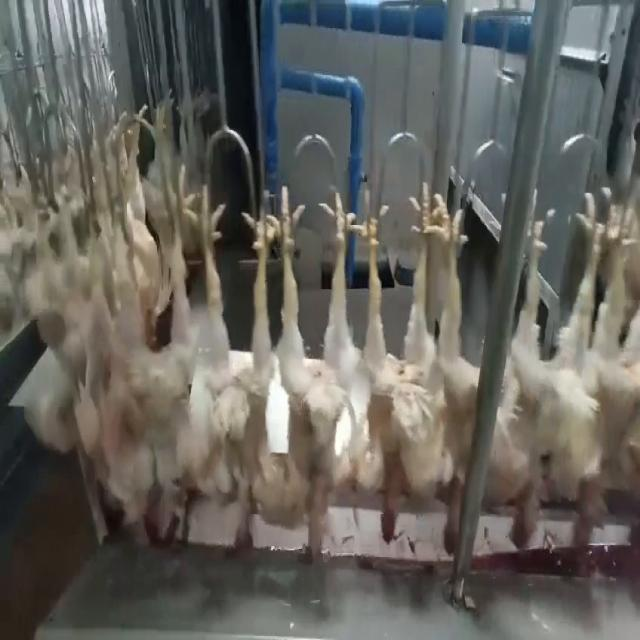chicken: (172, 188, 277, 556), (263, 189, 359, 561), (352, 173, 443, 543), (89, 173, 173, 541), (488, 210, 576, 553), (577, 191, 639, 568), (431, 170, 478, 560)
